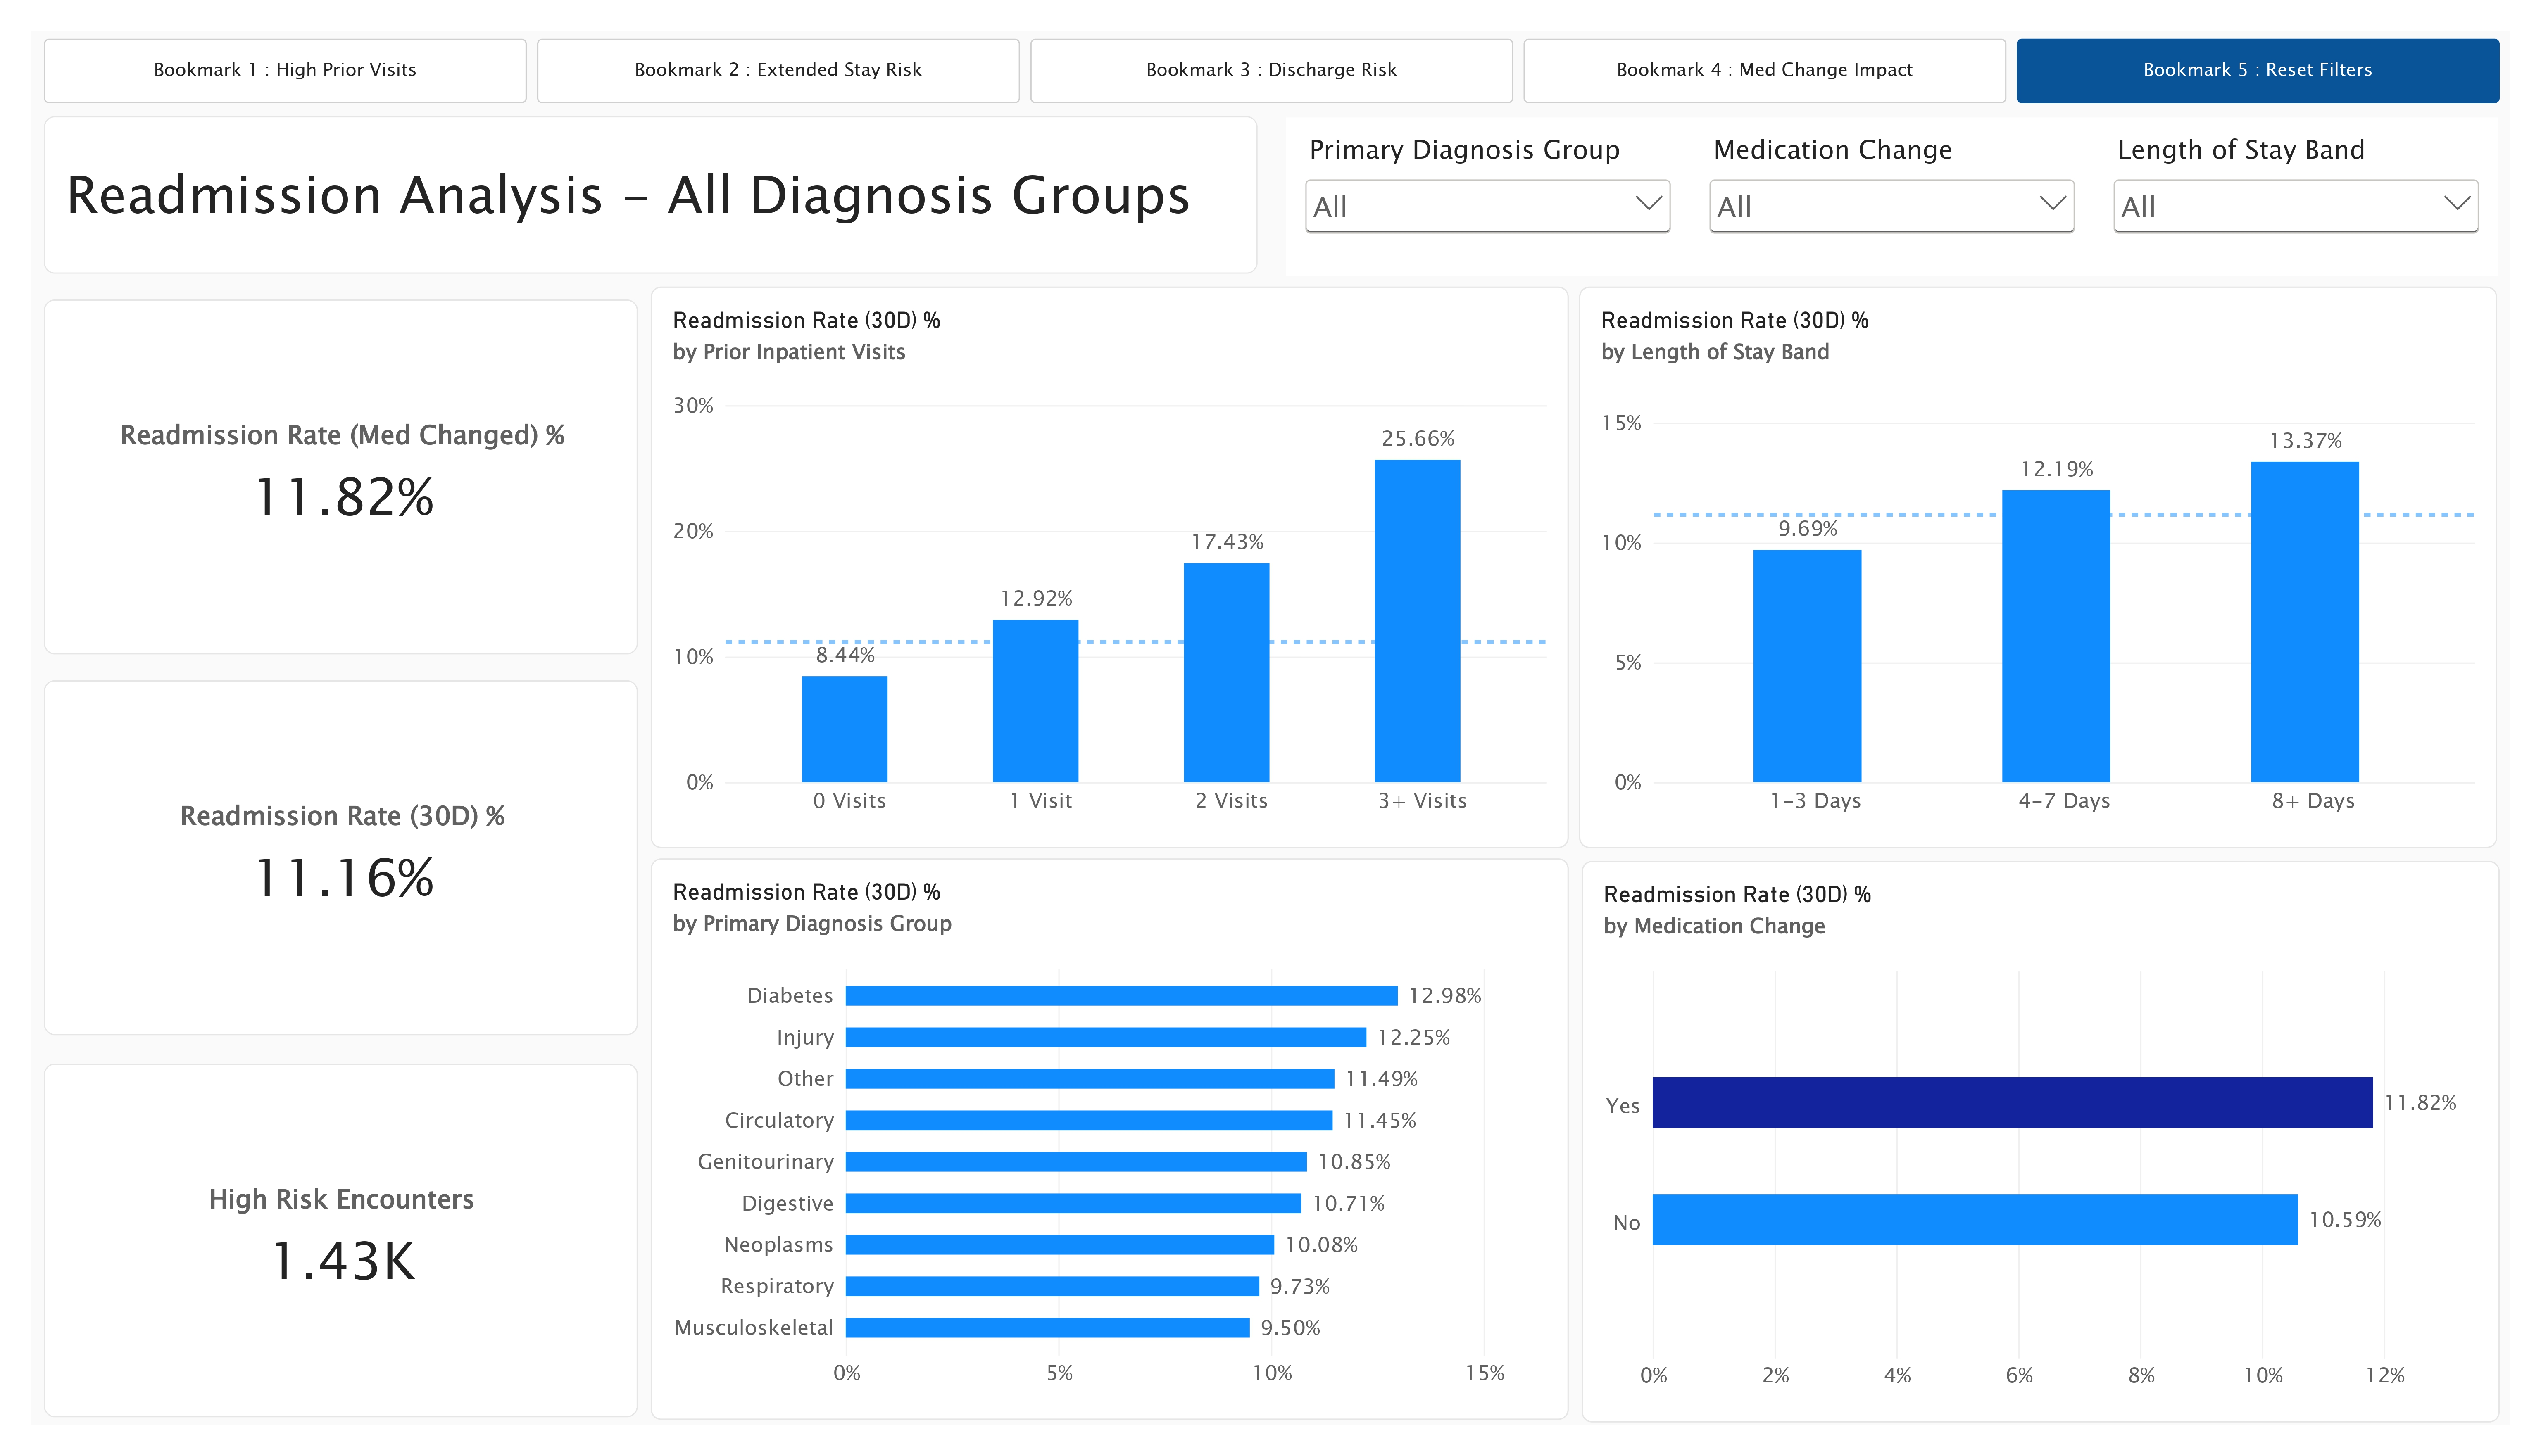

This screenshot's page, from the dashboard's own definition file:
{"tool":"powerbi","page":{"name":"Drivers","canvas":[1920,1080],"ordinal":1},"visuals":[{"type":"group","id":"g1","title":"Group 2","box":[0,55.5,1911.8,1027.8],"z":0},{"type":"cardVisual","fields":{"Data":["_Measures.Dynamic Title Diagnosis"]},"box":[0,55.5,960.4,142.1],"z":0,"group":"g1"},{"type":"slicer","fields":{"Values":["Fact_Encounters.Primary Diagnosis Group"]},"box":[972.3,66.3,313,122.8],"z":0,"group":"g2"},{"type":"bookmarkNavigator","box":[10.3,6.2,1903.6,49.3],"z":1000},{"type":"slicer","fields":{"Values":["Fact_Encounters.Change"]},"box":[1285.3,66.3,313,122.8],"z":1000,"group":"g2"},{"type":"cardVisual","fields":{"Data":["_Measures.High Risk Encounters"]},"box":[0,789.2,480.2,294.2],"z":1000,"group":"g1"},{"type":"slicer","fields":{"Values":["Fact_Encounters.Length of Stay Band"]},"box":[1598.3,66.3,313,122.8],"z":2000,"group":"g2"},{"type":"cardVisual","fields":{"Data":["_Measures.Readmission Rate (Med Changed) %"]},"box":[0,197.5,480.2,295],"z":2000,"group":"g1"},{"type":"cardVisual","fields":{"Data":["_Measures.Readmission Rate (30D) %"]},"box":[0,492.4,480.2,295],"z":3000,"group":"g1"},{"type":"group","id":"g2","title":"Group 1","box":[972.3,66.3,939.1,122.8],"z":4000,"group":"g1"},{"type":"clusteredBarChart","title":"Readmission Rate (30D) %","fields":{"Category":["Fact_Encounters.Change"],"Y":["_Measures.Readmission Rate (30D) %"]},"box":[1201.5,642.6,710.3,435.1],"z":5000,"group":"g1"},{"type":"clusteredBarChart","title":"Readmission Rate (30D) %","fields":{"Category":["Fact_Encounters.Primary Diagnosis Group"],"Y":["_Measures.Readmission Rate (30D) %"]},"box":[480.2,640.6,710.3,435.1],"z":6000,"group":"g1"},{"type":"columnChart","title":"Readmission Rate (30D) %","fields":{"Category":["Fact_Encounters.Length of Stay Band"],"Y":["_Measures.Readmission Rate (30D) %"]},"box":[1199.3,197.5,710.3,435.1],"z":7000,"group":"g1"},{"type":"columnChart","title":"Readmission Rate (30D) %","fields":{"Category":["Fact_Encounters.Prior Inpatient Visits Band"],"Y":["_Measures.Readmission Rate (30D) %"]},"box":[480.2,197.5,710.3,435.1],"z":8000,"group":"g1"}]}

Visuals, with their boxes on the page's 1920x1080 design canvas (x1, y1, x2, y2). These are canvas units, not pixel positions in the 2541x1456 screenshot, which may show the page scaled, cropped or inside an application window:
"Group 2" group: {"left": 0, "top": 56, "right": 1912, "bottom": 1083}
cardVisual - _Measures.Dynamic Title Diagnosis: {"left": 0, "top": 56, "right": 960, "bottom": 198}
slicer - Fact_Encounters.Primary Diagnosis Group: {"left": 972, "top": 66, "right": 1285, "bottom": 189}
bookmarkNavigator: {"left": 10, "top": 6, "right": 1914, "bottom": 56}
slicer - Fact_Encounters.Change: {"left": 1285, "top": 66, "right": 1598, "bottom": 189}
cardVisual - _Measures.High Risk Encounters: {"left": 0, "top": 789, "right": 480, "bottom": 1083}
slicer - Fact_Encounters.Length of Stay Band: {"left": 1598, "top": 66, "right": 1911, "bottom": 189}
cardVisual - _Measures.Readmission Rate (Med Changed) %: {"left": 0, "top": 198, "right": 480, "bottom": 492}
cardVisual - _Measures.Readmission Rate (30D) %: {"left": 0, "top": 492, "right": 480, "bottom": 787}
"Group 1" group: {"left": 972, "top": 66, "right": 1911, "bottom": 189}
"Readmission Rate (30D) %" clusteredBarChart: {"left": 1202, "top": 643, "right": 1912, "bottom": 1078}
"Readmission Rate (30D) %" clusteredBarChart: {"left": 480, "top": 641, "right": 1190, "bottom": 1076}
"Readmission Rate (30D) %" columnChart: {"left": 1199, "top": 198, "right": 1910, "bottom": 633}
"Readmission Rate (30D) %" columnChart: {"left": 480, "top": 198, "right": 1190, "bottom": 633}
